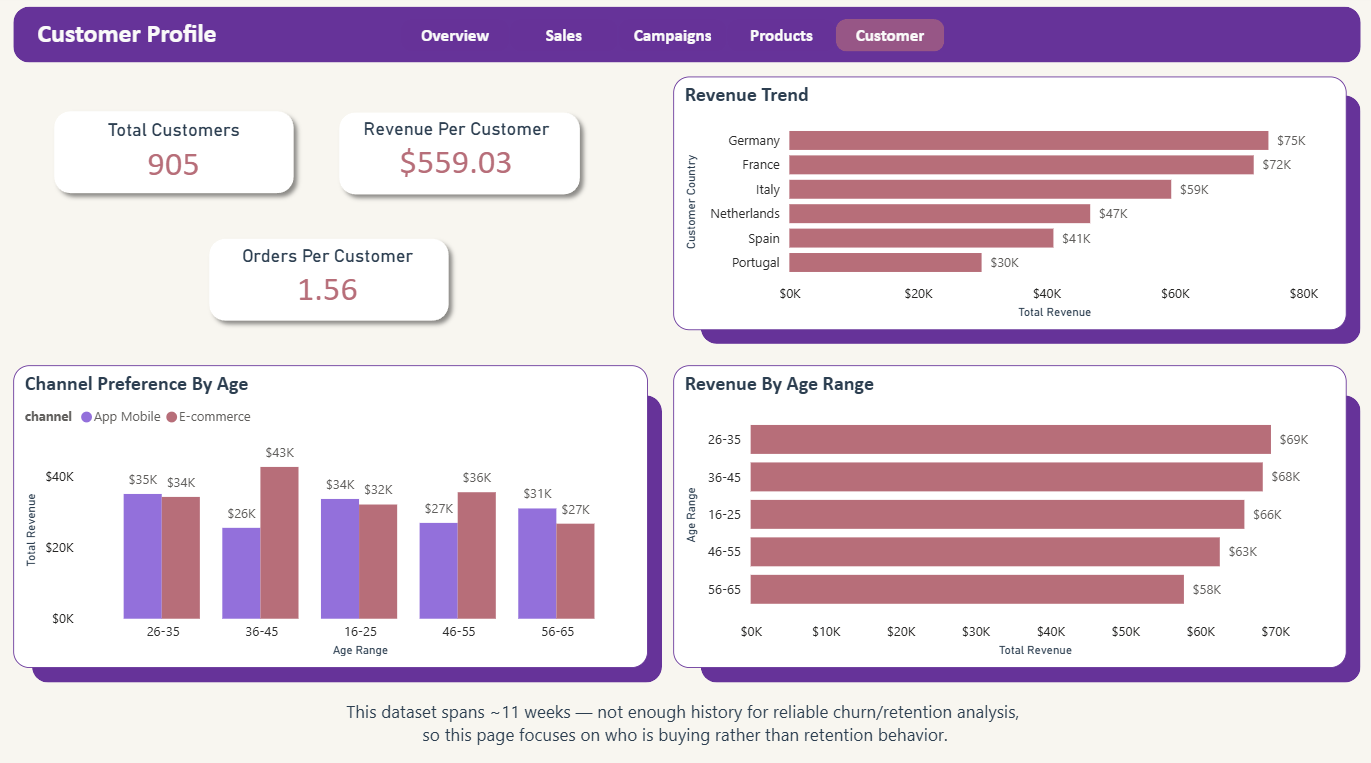

The page's visual inventory and layout, read from the dashboard file:
{"tool":"powerbi","page":{"name":"Customer Profile","canvas":[1280,720],"ordinal":4},"visuals":[{"type":"shape","box":[15.1,11.6,1253.5,52.3],"z":0},{"type":"actionButton","box":[375.6,23.3,101.2,30.2],"z":1000},{"type":"actionButton","box":[476.7,23.3,101.2,30.2],"z":2000},{"type":"actionButton","box":[577.9,23.3,101.2,30.2],"z":3000},{"type":"actionButton","box":[679.1,23.3,101.2,30.2],"z":4000},{"type":"actionButton","box":[780.2,23.3,101.2,30.2],"z":5000},{"type":"textbox","box":[32.6,16.3,265.1,44.2],"z":6000},{"type":"shape","box":[44.2,100,240.7,94.2],"z":7000},{"type":"shape","box":[309.3,101.2,241.9,94.2],"z":8000},{"type":"shape","box":[188.4,218.6,240.7,94.2],"z":9000},{"type":"card","title":"Total Customers","fields":{"Values":["CountNonNull(sales.customer_id)"]},"box":[44.2,116.3,240.7,65.1],"z":10000},{"type":"card","title":"Orders Per Customer","fields":{"Values":["_Measures.Orders per Customer"]},"box":[187.2,233.7,240.7,64],"z":11000},{"type":"card","title":"Revenue Per Customer","fields":{"Values":["_Measures.Revenue per Customer"]},"box":[307,115.1,240.7,65.1],"z":12000},{"type":"textbox","box":[30.2,651.2,1219.8,58.1],"z":13000},{"type":"shape","box":[654.7,94.2,614,231.4],"z":14000},{"type":"clusteredBarChart","title":"Revenue Trend","fields":{"Category":["customers.country"],"Y":["_Measures.Total Revenue"]},"box":[629.1,76.7,626.7,236],"z":15000},{"type":"shape","box":[654.7,373.3,614,267.4],"z":16000},{"type":"clusteredBarChart","title":"Revenue By Age Range","fields":{"Category":["customers.age_range"],"Y":["_Measures.Total Revenue"]},"box":[629.1,345.3,626.7,281.4],"z":17000},{"type":"shape","box":[32.6,373.3,586,267.4],"z":18000},{"type":"clusteredColumnChart","title":"Channel Preference By Age","fields":{"Category":["customers.age_range"],"Y":["_Measures.Total Revenue"],"Series":["salesitems.channel"]},"box":[15.1,345.3,590.7,281.4],"z":19000}]}

Visuals, with their boxes in screenshot pixels (x1, y1, x2, y2), scaled from the page's 1280x720 canvas onto the 1371x763 screenshot:
shape: [16, 12, 1359, 68]
actionButton: [402, 25, 511, 57]
actionButton: [511, 25, 619, 57]
actionButton: [619, 25, 727, 57]
actionButton: [727, 25, 836, 57]
actionButton: [836, 25, 944, 57]
textbox: [35, 17, 319, 64]
shape: [47, 106, 305, 206]
shape: [331, 107, 590, 207]
shape: [202, 232, 460, 331]
"Total Customers" card: [47, 123, 305, 192]
"Orders Per Customer" card: [201, 248, 458, 315]
"Revenue Per Customer" card: [329, 122, 587, 191]
textbox: [32, 690, 1339, 752]
shape: [701, 100, 1359, 345]
"Revenue Trend" clusteredBarChart: [674, 81, 1345, 331]
shape: [701, 396, 1359, 679]
"Revenue By Age Range" clusteredBarChart: [674, 366, 1345, 664]
shape: [35, 396, 663, 679]
"Channel Preference By Age" clusteredColumnChart: [16, 366, 649, 664]
